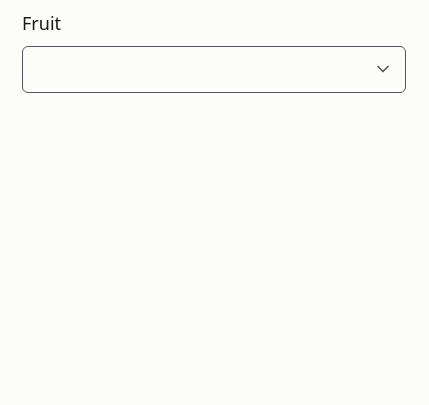
Test: controlled and uncontrolled state › selects by value even when option objects are recreated
What coordinates should you click on to do the following:
click the dropdown
I would click on:
 (192, 69)
Its box is left=23, top=47, right=361, bottom=92.
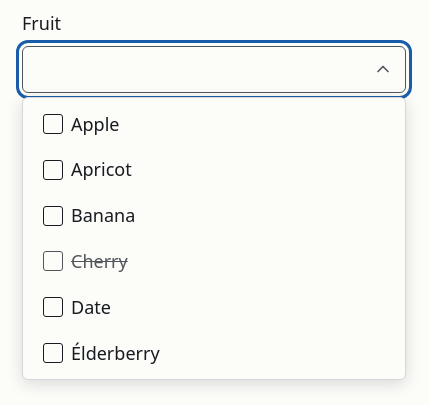
What coordinates should you click on to do the following:
click the option "Apple"
I would click on:
 (81, 124)
Its box is left=43, top=112, right=120, bottom=136.
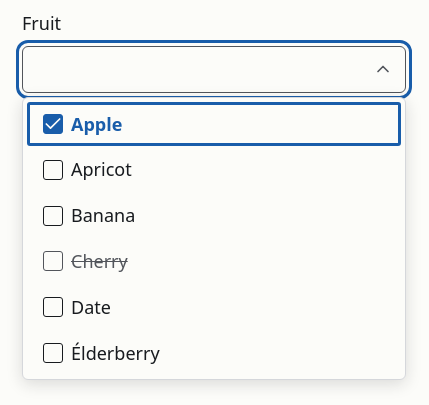
What coordinates should you click on to do the following:
click the option "Apple"
I would click on:
 (83, 124)
Its box is left=43, top=112, right=122, bottom=136.
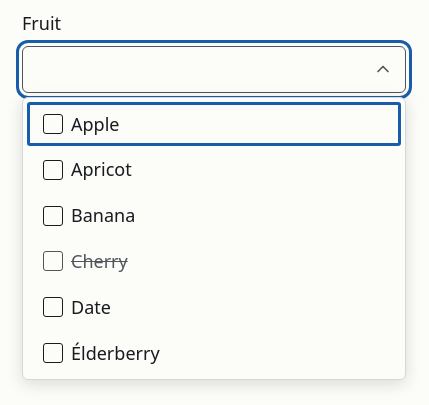
Now the option "Apple" is not selected, box left=43, top=112, right=120, bottom=136
